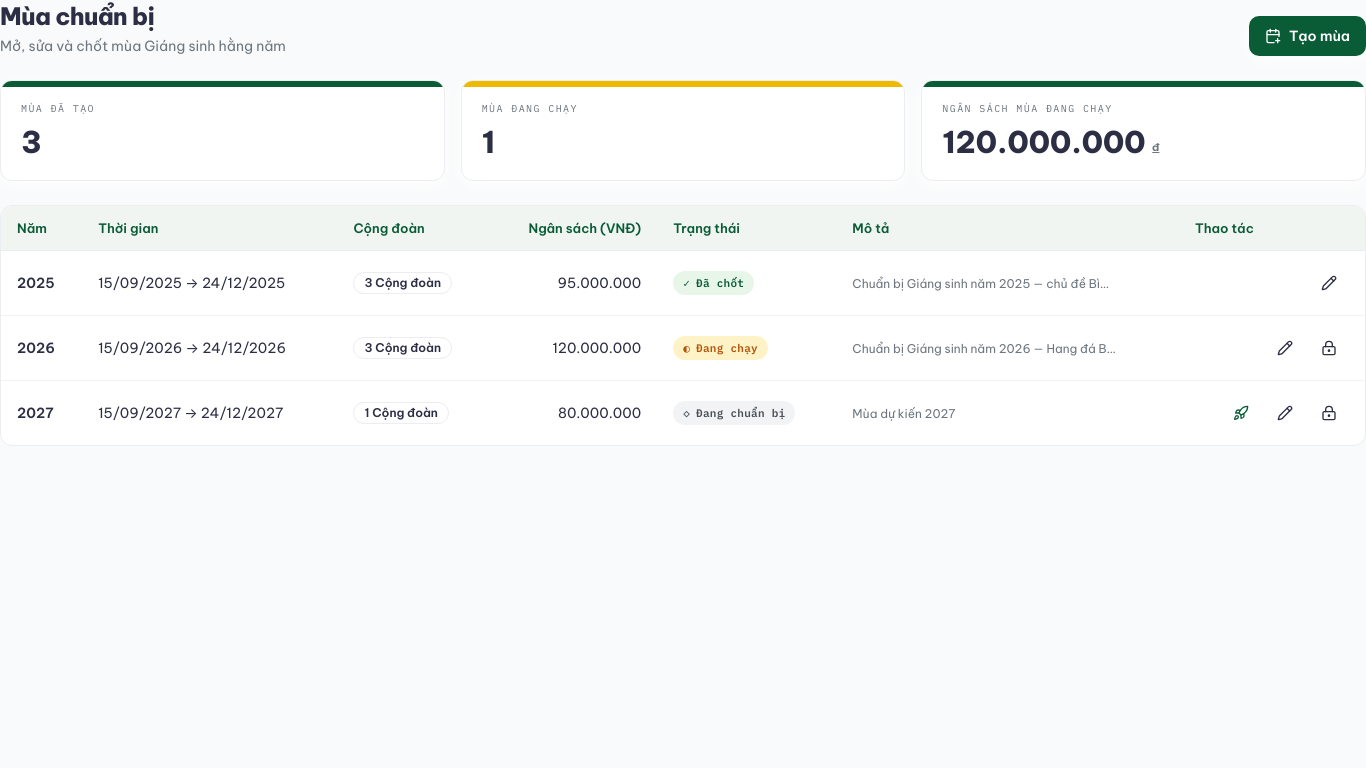
Test: SeasonListPage (Flow 4 + Flow 6) › mùa PLANNED có nút Kích hoạt (Rocket); bấm Kích hoạt mở dialog kiểm tra điều kiện
expect the text "2027" is shown: met, box [17,404,54,422]
What coordinates should you click on to do the following:
click the button named "Kích hoạt"
I would click on:
 (1241, 413)
Its box is [1221,393,1261,433].
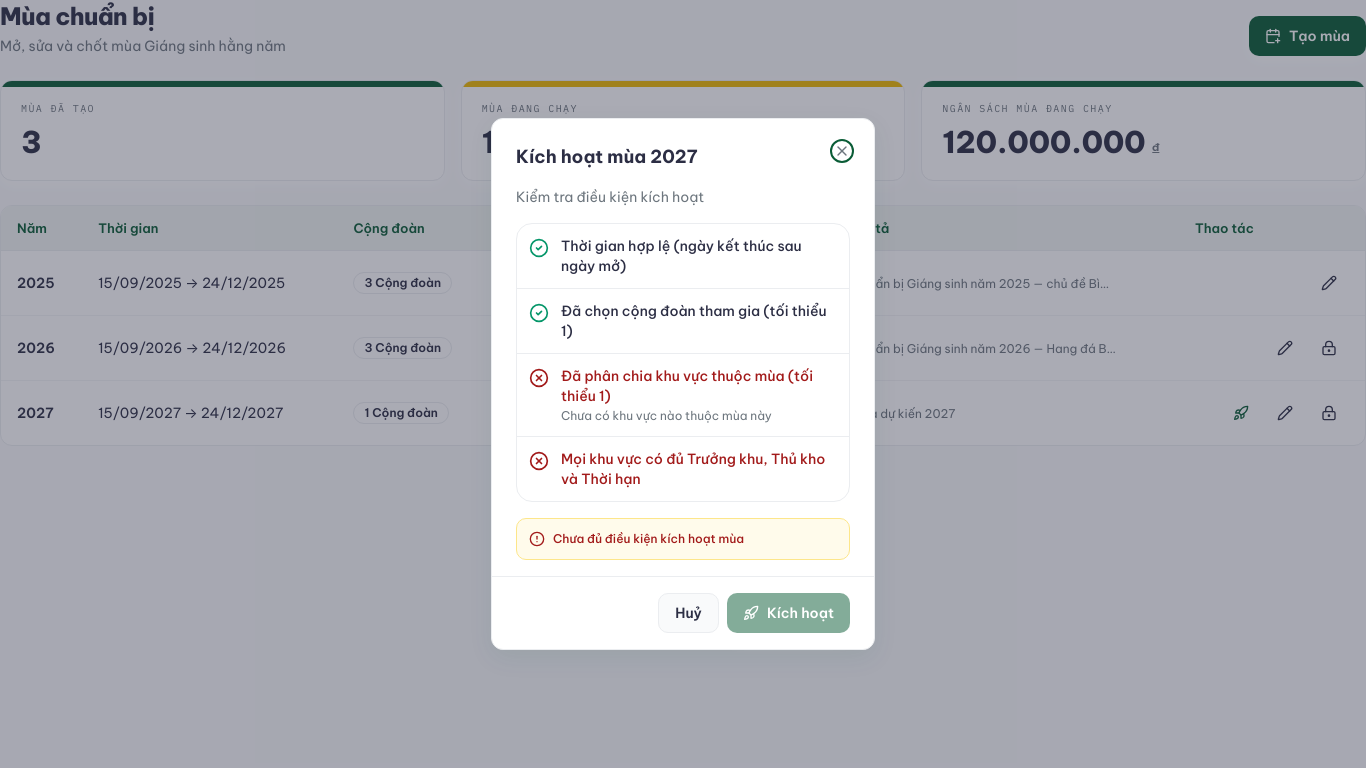
expect the text "Kiểm tra điều kiện kích hoạt" is shown: met, box [516,188,704,206]
expect the text "Chưa đủ điều kiện kích hoạt mùa" is shown: met, box [553,531,744,547]
